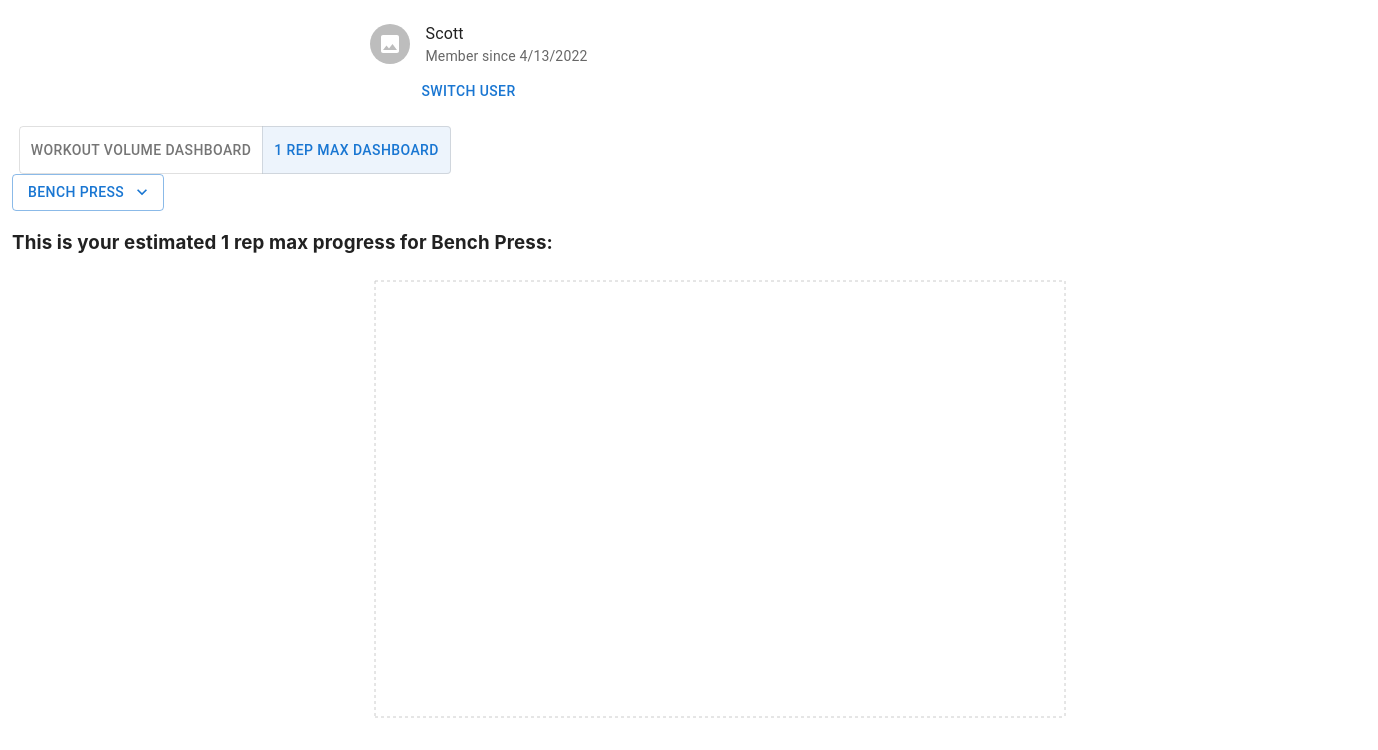
Test case: Volume dashboard tests › Pull 1 test
Click the button with test id "dashboard-toggle-volume" at (141,150), box [19, 126, 263, 174]
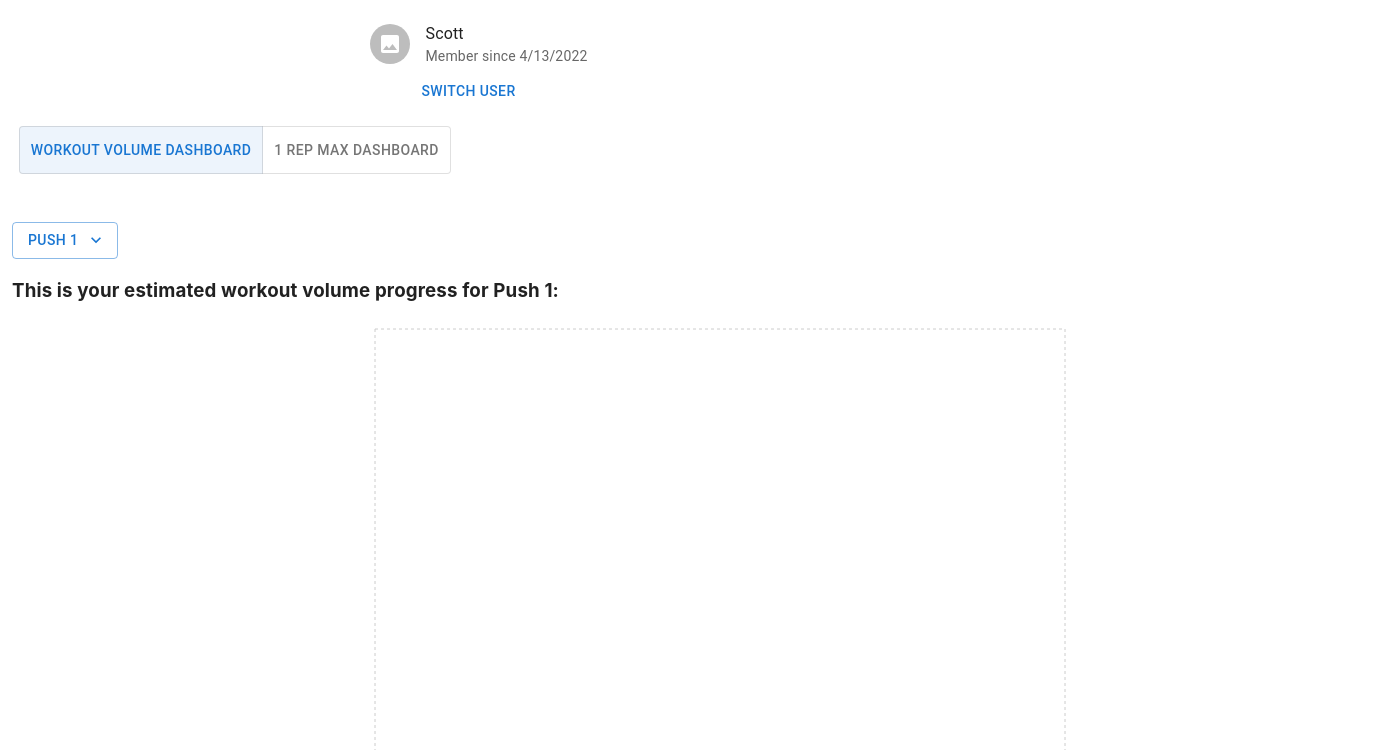
Click the button with test id "split-options" at (65,240), box [12, 222, 118, 258]
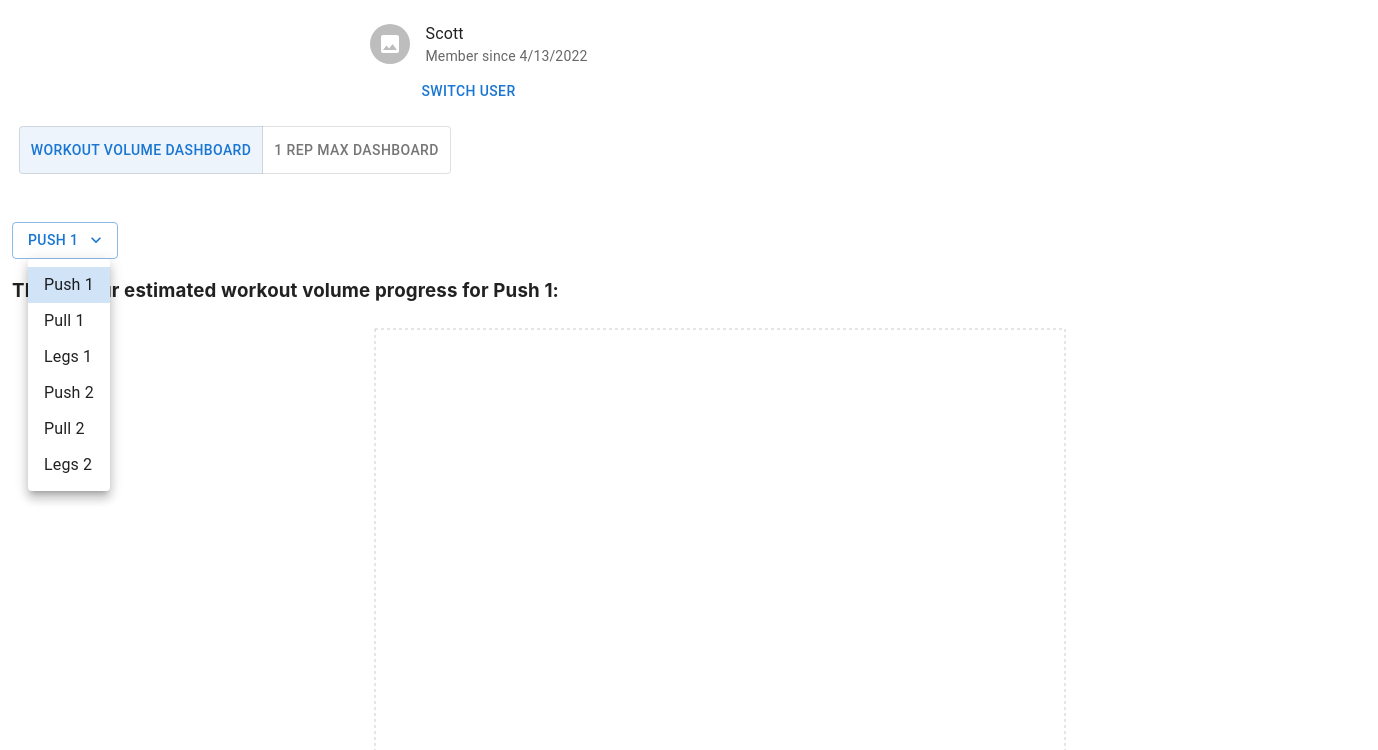
Click the menu item with test id "split-options-Pull 1" at (64,320), box [44, 311, 85, 330]
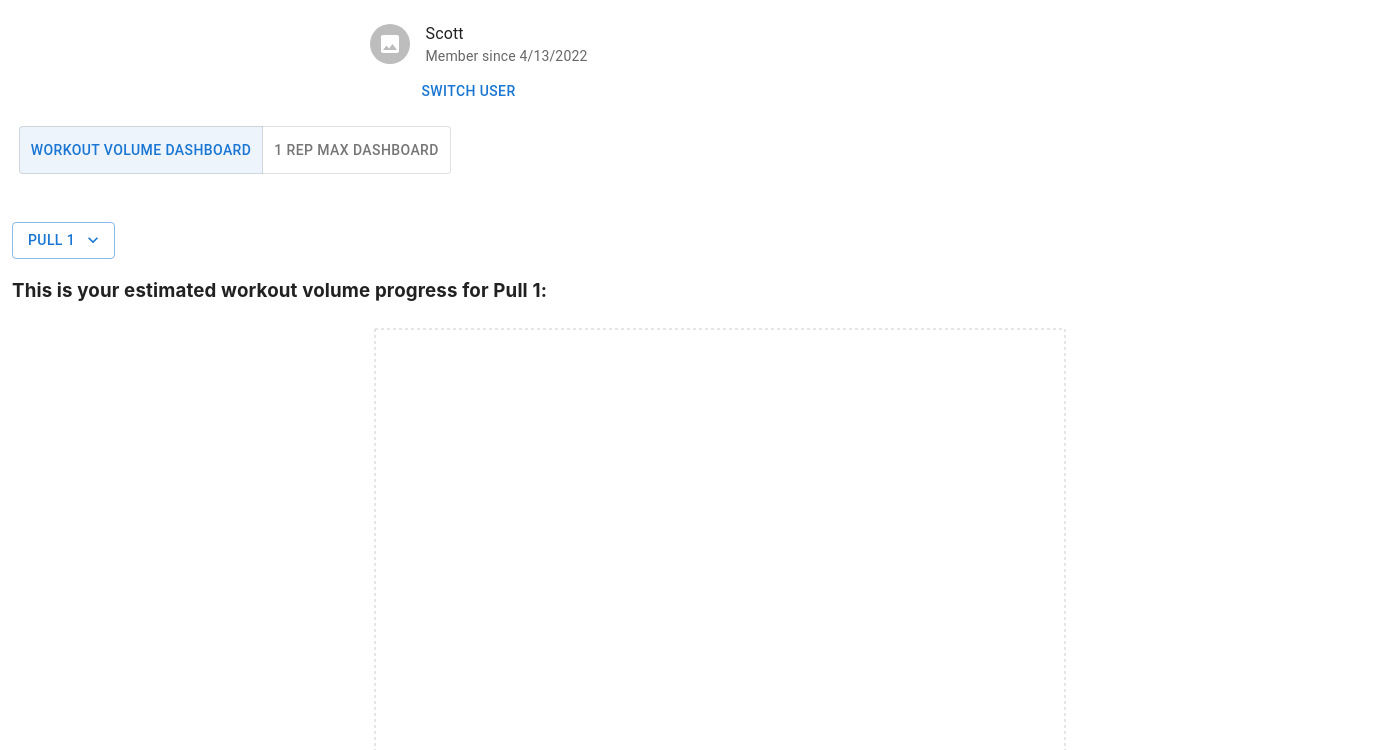
Expected: the button with test id "split-options" reads "Pull 1", [12, 222, 115, 258]
